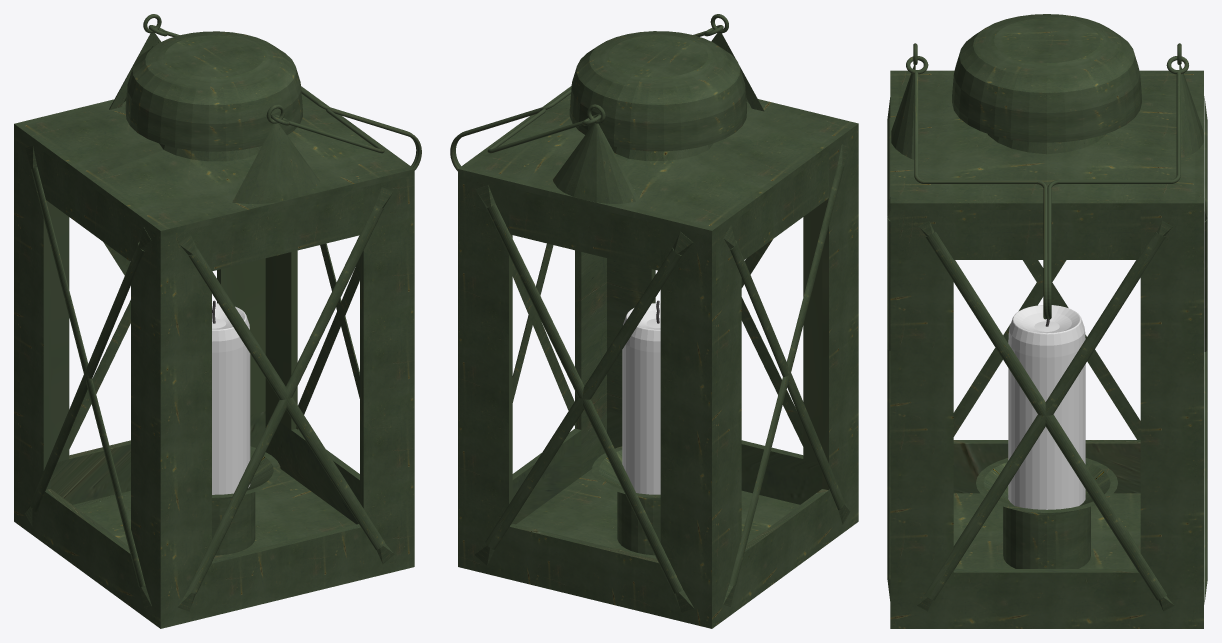
Rendered from Lantern.fbx.
3 renders of one model, left to right at view 1: azimuth 30°, elevation 25°; view 2: azimuth 150°, elevation 25°; view 3: azimuth 270°, elevation 25°, orthographic. The views are drawn at different scales.
Visible parts, largest first — view 1: Cube.001, Cylinder.001, Cube.003, Cube.005, Cylinder.002, Cone.002, Cylinder, Cube.004, Torus, Cube.002, Cone.001; view 2: Cube.001, Cylinder.001, Cube.002, Cylinder.002, Cube.005, Cone.001, Cylinder, Cube.004, Torus, Cube.003, Cone.002; view 3: Cube.001, Cylinder.001, Cylinder.002, Cube.004, Cylinder, Torus, Cube.005, Cube.002, Cube.003, Cone.002, Cone.001.
Part boxes in pixels (x1=…): Cube.001: x1=14, y1=86, x2=414, y2=628; Cylinder.001: x1=125, y1=31, x2=302, y2=151; Cube.003: x1=178, y1=187, x2=394, y2=611; Cube.005: x1=25, y1=146, x2=151, y2=608; Cylinder.002: x1=212, y1=303, x2=250, y2=494; Cone.002: x1=232, y1=104, x2=319, y2=203; Cylinder: x1=212, y1=446, x2=280, y2=555; Cube.004: x1=296, y1=243, x2=359, y2=429; Torus: x1=148, y1=25, x2=421, y2=170; Cube.002: x1=69, y1=242, x2=130, y2=448; Cone.001: x1=109, y1=14, x2=161, y2=109; Cube.001: x1=458, y1=86, x2=858, y2=628; Cylinder.001: x1=569, y1=31, x2=746, y2=151; Cube.002: x1=474, y1=185, x2=694, y2=612; Cylinder.002: x1=622, y1=303, x2=660, y2=494; Cube.005: x1=723, y1=144, x2=850, y2=606; Cone.001: x1=553, y1=104, x2=639, y2=203; Cylinder: x1=592, y1=446, x2=660, y2=555; Cube.004: x1=512, y1=243, x2=576, y2=427; Torus: x1=450, y1=25, x2=723, y2=171; Cube.003: x1=741, y1=239, x2=803, y2=446; Cone.002: x1=710, y1=14, x2=764, y2=111; Cube.001: x1=890, y1=70, x2=1203, y2=628; Cylinder.001: x1=952, y1=14, x2=1141, y2=142; Cylinder.002: x1=1008, y1=305, x2=1085, y2=509; Cube.004: x1=917, y1=220, x2=1174, y2=611; Cylinder: x1=976, y1=458, x2=1117, y2=568; Torus: x1=906, y1=56, x2=1188, y2=319; Cube.005: x1=953, y1=260, x2=1140, y2=439; Cube.002: x1=1204, y1=96, x2=1207, y2=604; Cube.003: x1=887, y1=97, x2=890, y2=600; Cone.002: x1=891, y1=43, x2=917, y2=159; Cone.001: x1=1177, y1=43, x2=1203, y2=157.
Bounding box in the file's own units: 265 × 368 × 204.
Materials: 2 (1 with a texture image).
